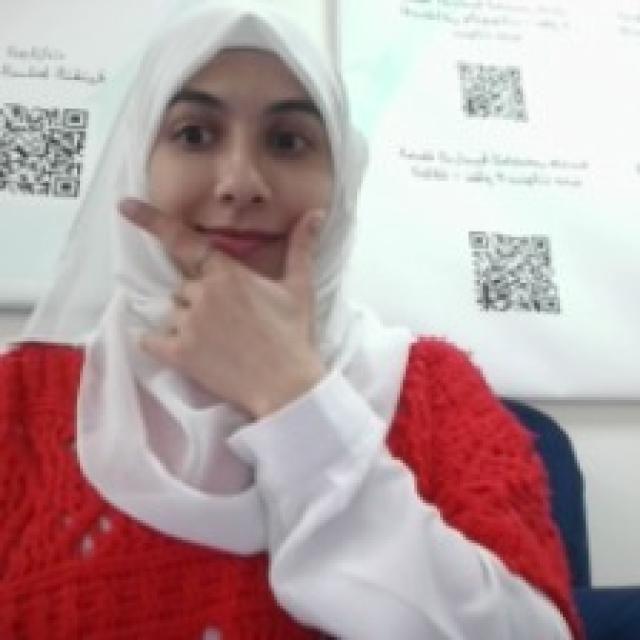smile: (106, 188, 331, 383)
